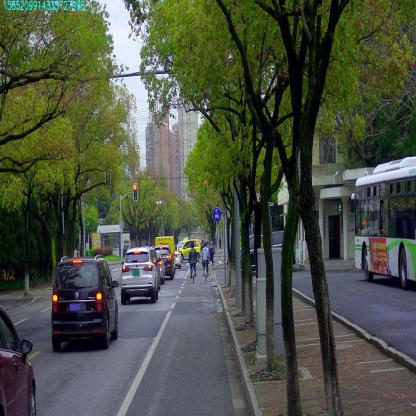traffic-light: (203, 177, 207, 196), (133, 183, 137, 201)
